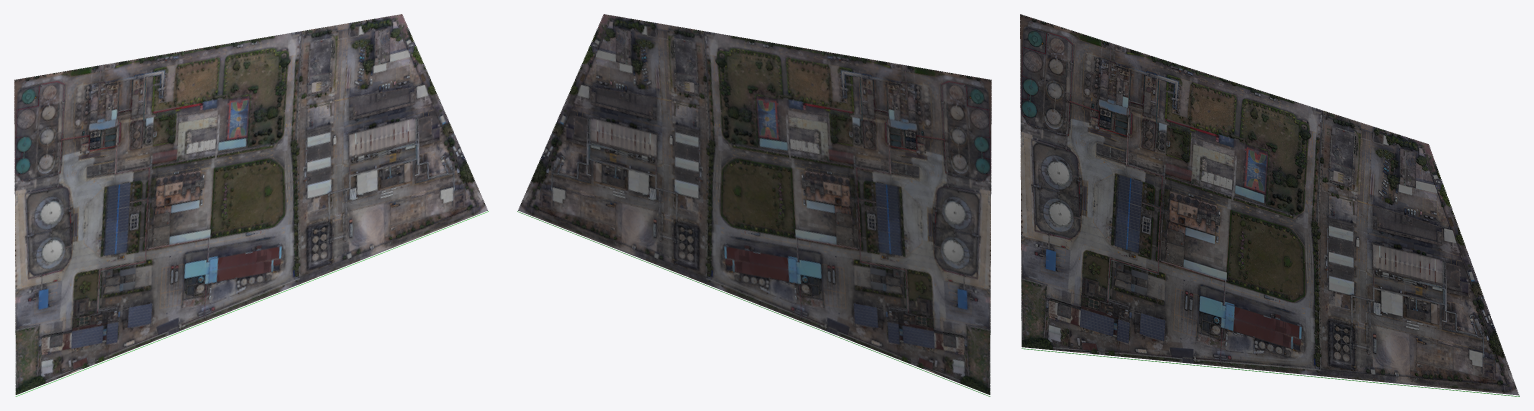
3 renders of one model, left to right at view 1: azimuth 30°, elevation 25°; view 2: azimuth 150°, elevation 25°; view 3: azimuth 330°, elevation 25°, orthographic. The views are drawn at different scales.
Visible parts, largest first — view 1: line001; view 2: line001; view 3: line001.
Boxes of the visible parts, left/top/right/bottom form: line001: left=14, top=14, right=488, bottom=396; line001: left=517, top=14, right=991, bottom=396; line001: left=1020, top=14, right=1519, bottom=396.
Size of the model in its own units: 39615 by 0.00413 by 25335.
